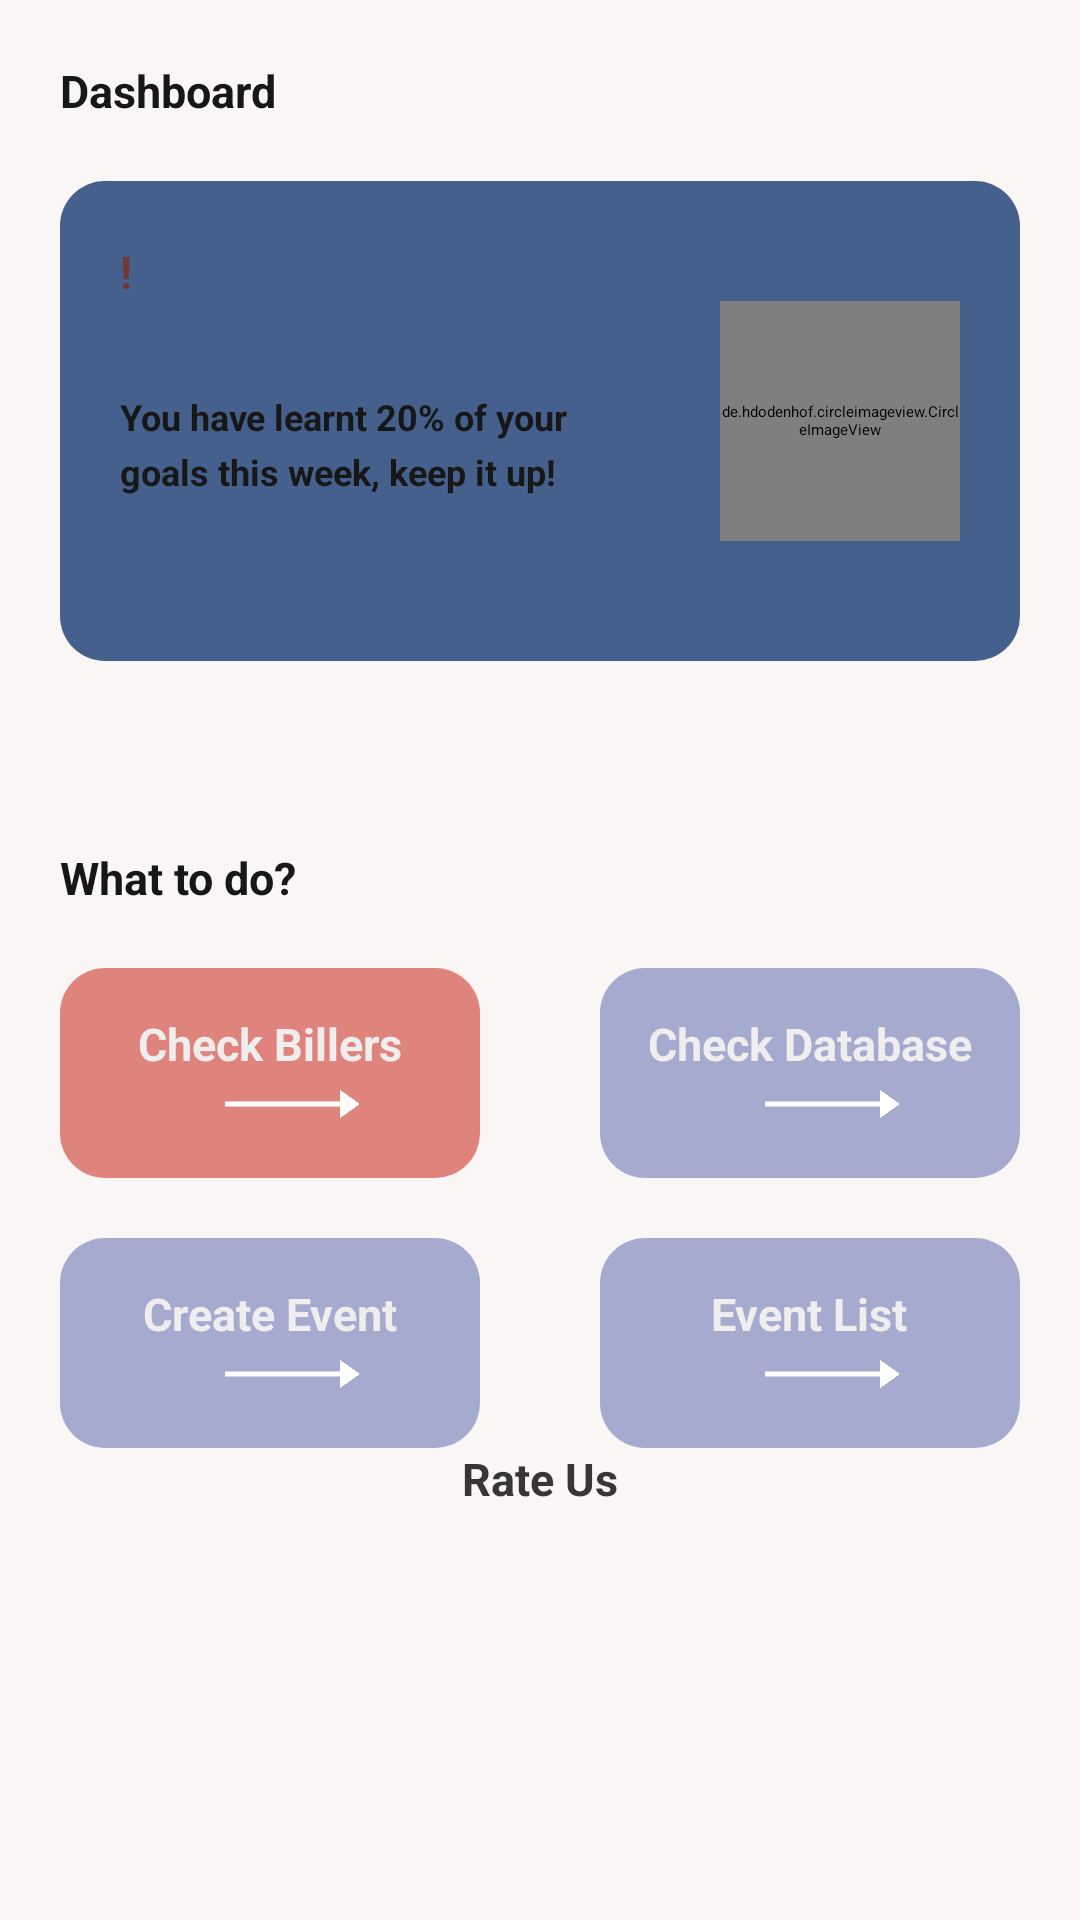

Where icons sit on this 1080×1920 app screen, as (x1, y1, x2, y2):
arrow: (225, 1090, 359, 1118), (765, 1090, 899, 1118), (225, 1360, 359, 1388), (765, 1360, 899, 1388)
